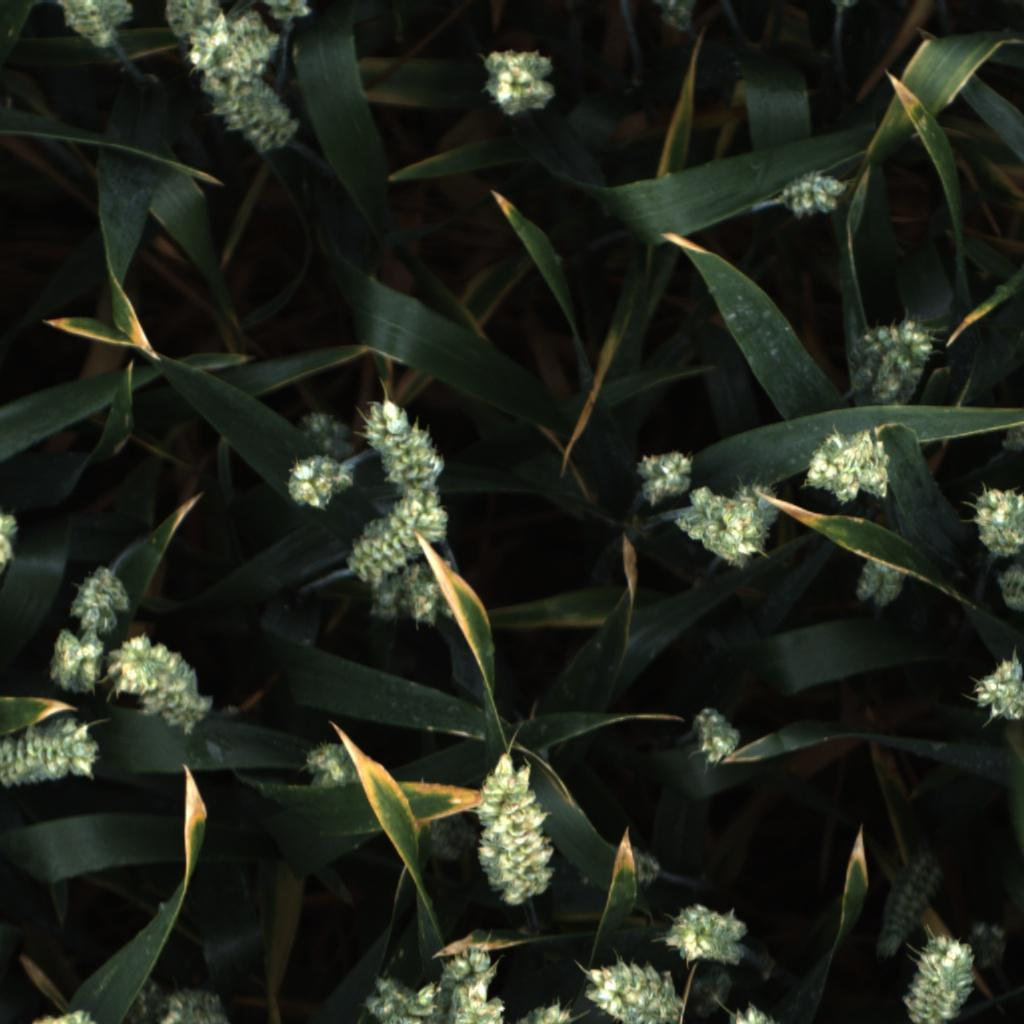0-0: (470, 751, 555, 911), (110, 637, 214, 734), (199, 68, 301, 160), (357, 396, 447, 499), (346, 497, 449, 586), (672, 482, 774, 570), (863, 851, 943, 961), (0, 715, 102, 796), (182, 10, 282, 86), (800, 429, 897, 505), (904, 934, 980, 1024), (479, 41, 562, 123), (582, 961, 682, 1024), (869, 319, 939, 407), (664, 903, 753, 967), (68, 556, 133, 641), (42, 620, 109, 700), (282, 451, 359, 514), (962, 481, 1024, 559), (626, 443, 699, 509), (290, 734, 366, 797), (772, 166, 851, 224), (967, 651, 1024, 730), (51, 0, 139, 51), (686, 704, 747, 774), (400, 557, 461, 626), (845, 322, 901, 394), (434, 945, 497, 1008), (359, 977, 443, 1024), (290, 404, 358, 462), (850, 551, 910, 613), (152, 985, 232, 1024), (422, 803, 473, 860), (446, 975, 504, 1024), (161, 0, 227, 43), (689, 967, 734, 1022), (731, 483, 782, 529), (992, 562, 1024, 627), (968, 920, 1007, 969), (364, 575, 403, 624), (261, 0, 314, 33), (652, 0, 699, 34), (0, 507, 23, 576), (512, 1000, 577, 1024), (27, 1006, 101, 1024), (630, 846, 661, 888), (727, 1000, 779, 1023), (119, 988, 149, 1022), (1000, 423, 1024, 454), (832, 0, 859, 11)
